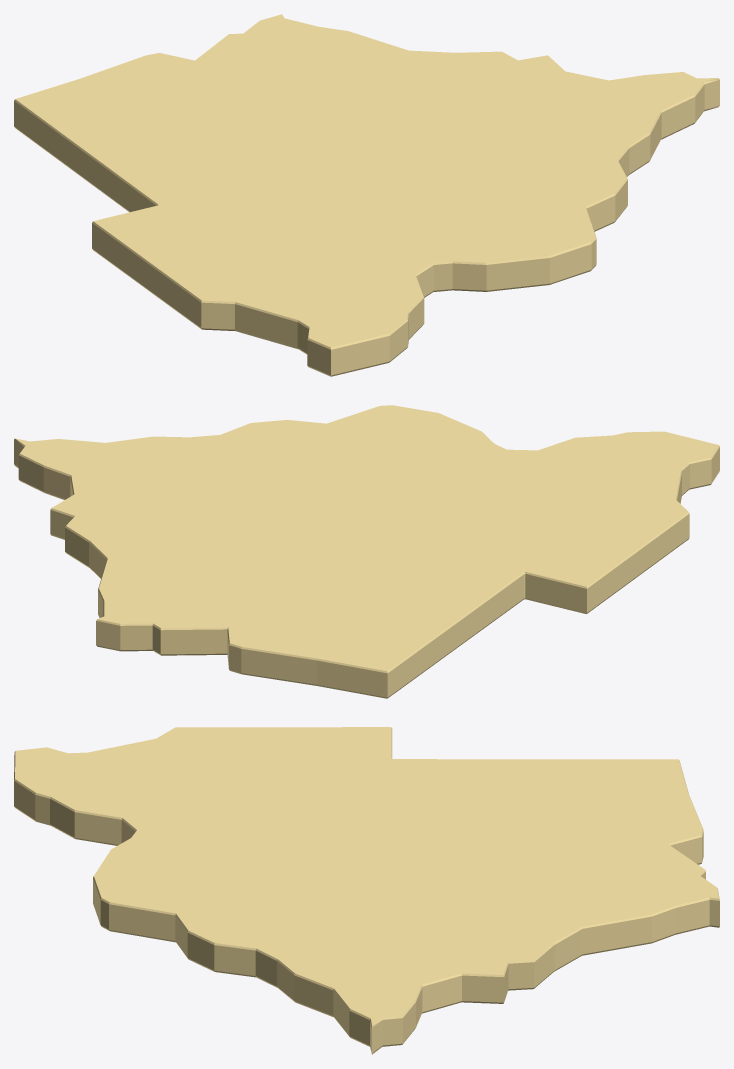
File: BWA.glb
3 views of the same model, one above another, from view 1: azimuth 30°, elevation 25°; view 2: azimuth 150°, elevation 25°; view 3: azimuth 270°, elevation 25° (orthographic). The views are drawn at different scales.
Size of the model in its own units: 1.51 by 0.068 by 1.5.
